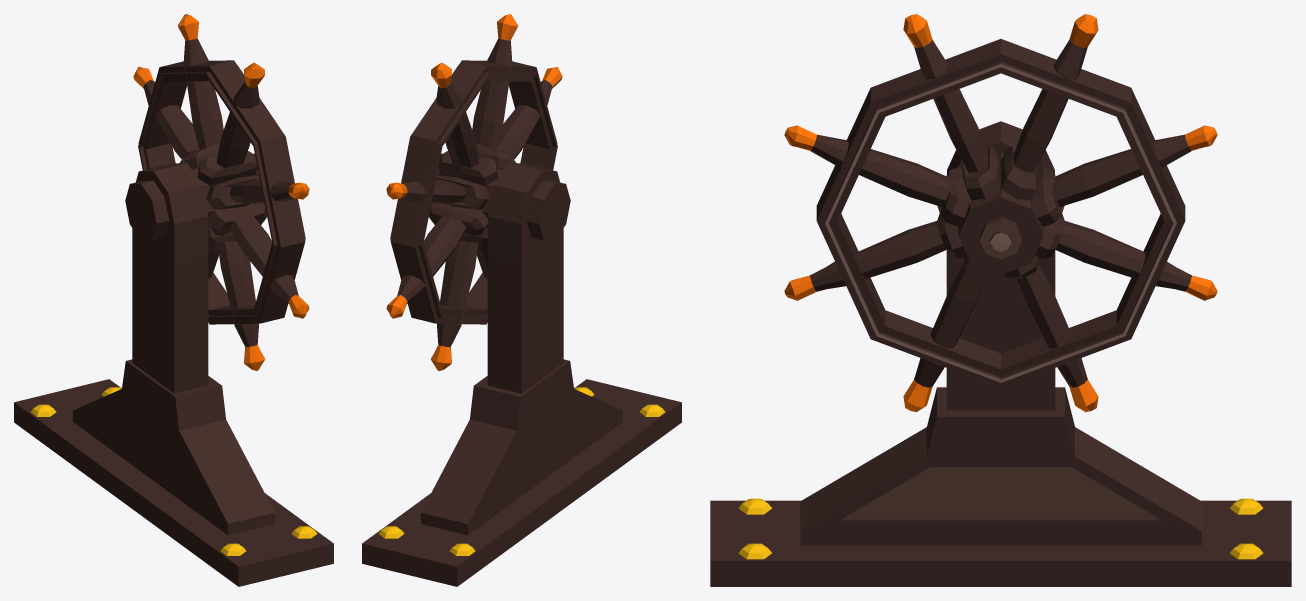
The model's file is Rudder.fbx.
3 views of the same model, side by side, from view 1: azimuth 30°, elevation 25°; view 2: azimuth 150°, elevation 25°; view 3: azimuth 270°, elevation 25° (orthographic). The views are drawn at different scales.
Parts seen in each view (by area): view 1: Plane, Circle; view 2: Plane, Circle; view 3: Plane, Circle.
Part boxes in pixels (x1,y1,x2,y2): Plane: [14, 163, 333, 586]; Circle: [133, 14, 309, 370]; Plane: [362, 163, 681, 586]; Circle: [386, 14, 562, 370]; Plane: [710, 121, 1291, 586]; Circle: [784, 14, 1217, 412].
Bounding box in the file's own units: 72.62 × 218 × 200.
